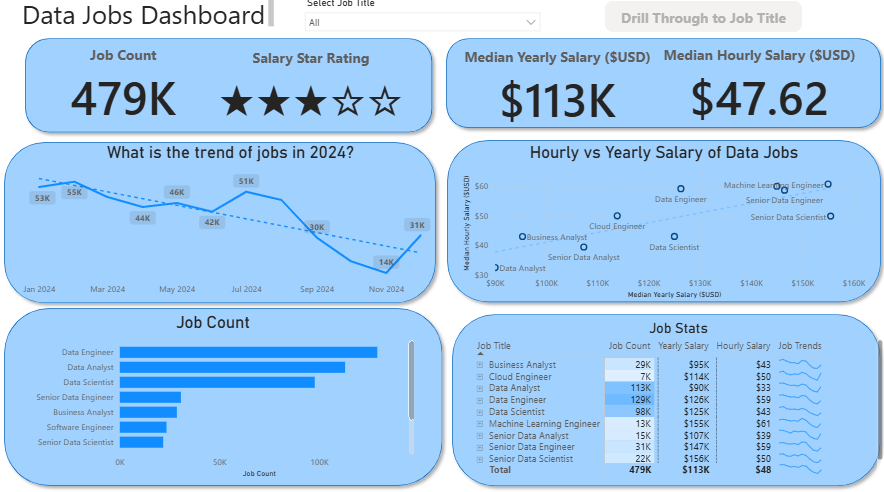

This screenshot's page, from the dashboard's own definition file:
{"tool":"powerbi","page":{"name":"Data Jobs Dashboard","canvas":[1280,720],"ordinal":0},"visuals":[{"type":"group","id":"g1","title":"Backgrounds","box":[0,56.2,1280.2,662.4],"z":0},{"type":"shape","box":[30.4,56.2,604.1,153.6],"z":0,"group":"g1"},{"type":"textbox","box":[30.2,0,371.5,56.2],"z":1000},{"type":"shape","box":[636.1,56.2,644.1,147.2],"z":1000,"group":"g1"},{"type":"slicer","fields":{"Values":["job_postings_flat.job_title_short"]},"box":[432,0,358.6,56.2],"z":2000},{"type":"shape","box":[0,206.6,639.3,249.6],"z":2000,"group":"g1"},{"type":"cardVisual","fields":{"Data":["Median(job_postings_flat.salary_year_avg)"]},"box":[633.6,66.2,344.2,139.7],"z":3000},{"type":"shape","box":[645.7,453,634.5,265.6],"z":3000,"group":"g1"},{"type":"cardVisual","fields":{"Data":["Median(job_postings_flat.salary_hour_avg)"]},"box":[924.5,63.4,344.2,139.7],"z":4000},{"type":"shape","box":[0,445,648.9,273.6],"z":4000,"group":"g1"},{"type":"cardVisual","fields":{"Data":["job_postings_flat.Salary Star Rating"]},"box":[285.1,66.2,331.2,139.7],"z":5000},{"type":"shape","box":[637.7,203.4,642.5,251.2],"z":5000,"group":"g1"},{"type":"cardVisual","fields":{"Data":["CountNonNull(job_postings_flat.job_title_short)"]},"box":[14.4,63.4,332.6,139.7],"z":6000},{"type":"lineChart","title":"What is the trend of jobs in 2024?","fields":{"Category":["job_postings_flat.job_posted_date.Variation.Date Hierarchy.Year","job_postings_flat.job_posted_date.Variation.Date Hierarchy.Quarter","job_postings_flat.job_posted_date.Variation.Date Hierarchy.Month","job_postings_flat.job_posted_date.Variation.Date Hierarchy.Day"],"Y":["CountNonNull(job_postings_flat.job_title_short)"]},"box":[30.2,216,609.1,229],"z":7000},{"type":"barChart","title":"Job Count","fields":{"Category":["job_postings_flat.job_title_short"],"Y":["CountNonNull(job_postings_flat.job_title_short)"]},"box":[14.4,460.8,590.4,241.9],"z":8000},{"type":"scatterChart","title":"Hourly vs Yearly Salary of Data Jobs","fields":{"X":["Median(job_postings_flat.salary_year_avg)"],"Y":["Median(job_postings_flat.salary_hour_avg)"],"Series":["job_postings_flat.job_title_short"]},"box":[663.8,216,590.4,229],"z":9000},{"type":"pivotTable","title":"Job Stats","fields":{"Rows":["job_postings_flat.job_title_short","job_postings_flat.job_posted_date.Variation.Date Hierarchy.Quarter"],"Values":["CountNonNull(job_postings_flat.job_country)","Median(job_postings_flat.salary_year_avg)","Median(job_postings_flat.salary_hour_avg)","SparklineData(CountNonNull(job_postings_flat.job_title_short)_[job_postings_flat.job_posted_date.Variation.Date Hierarch"]},"box":[679.7,470.9,600.5,227.5],"z":10000},{"type":"actionButton","box":[874.1,11.5,283.7,44.6],"z":11000}]}

Visuals, with their boxes in screenshot pixels (x1, y1, x2, y2), scaled from the page's 1280x720 canvas onto the 884x492 screenshot:
"Backgrounds" group: bbox=(0, 38, 883, 491)
shape: bbox=(21, 38, 438, 143)
textbox: bbox=(21, 0, 277, 38)
shape: bbox=(439, 38, 883, 139)
slicer - job_postings_flat.job_title_short: bbox=(298, 0, 546, 38)
shape: bbox=(0, 141, 442, 312)
cardVisual - Median(job_postings_flat.salary_year_avg): bbox=(438, 45, 675, 141)
shape: bbox=(446, 310, 883, 491)
cardVisual - Median(job_postings_flat.salary_hour_avg): bbox=(638, 43, 876, 139)
shape: bbox=(0, 304, 448, 491)
cardVisual - job_postings_flat.Salary Star Rating: bbox=(197, 45, 426, 141)
shape: bbox=(440, 139, 883, 311)
cardVisual - CountNonNull(job_postings_flat.job_title_short): bbox=(10, 43, 240, 139)
"What is the trend of jobs in 2024?" lineChart: bbox=(21, 148, 442, 304)
"Job Count" barChart: bbox=(10, 315, 418, 480)
"Hourly vs Yearly Salary of Data Jobs" scatterChart: bbox=(458, 148, 866, 304)
"Job Stats" pivotTable: bbox=(469, 322, 883, 477)
actionButton: bbox=(604, 8, 800, 38)
